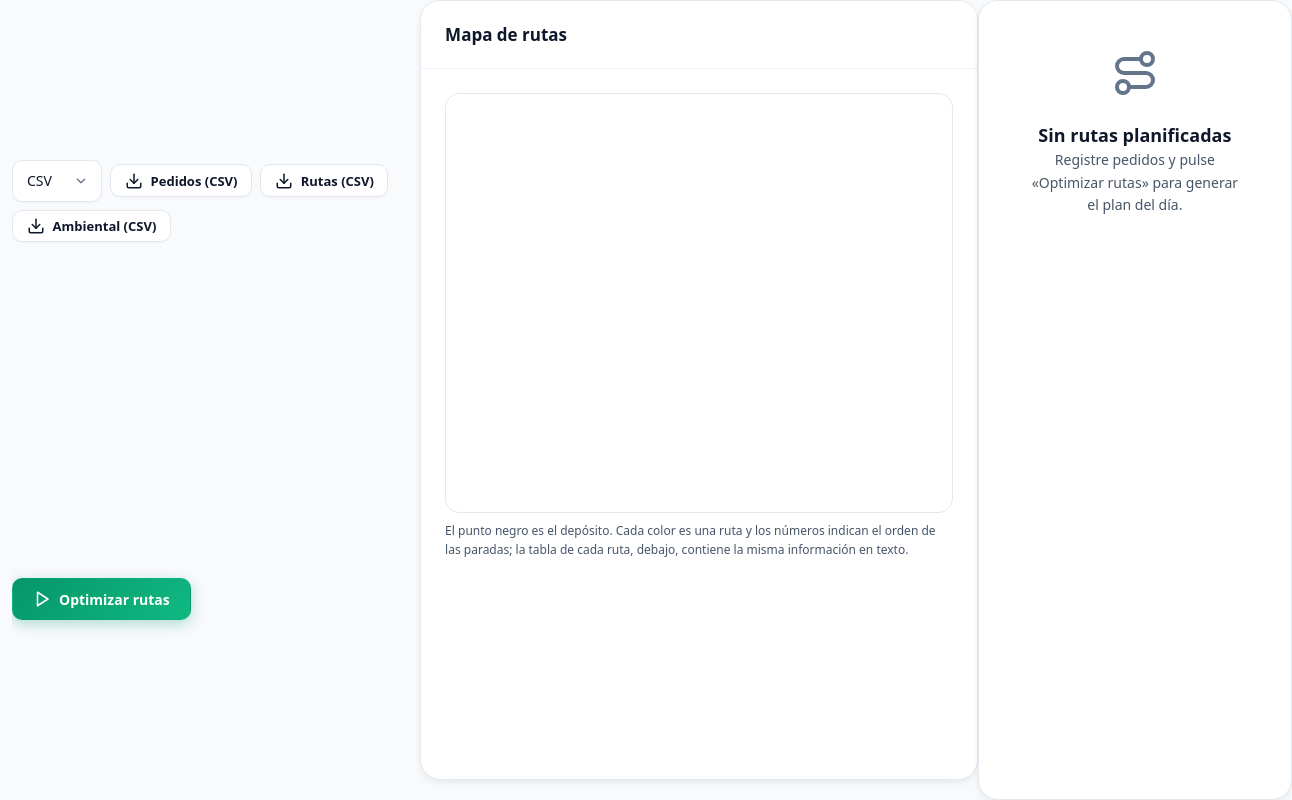
Test: RutasPage › optimizar muestra el CO₂ evitado, la compensación, el tiempo y los pedidos sin asignar
What coordinates should you click on to do the following:
click the button "Optimizar rutas"
I would click on:
 (101, 599)
Its box is [12,578,191,620].
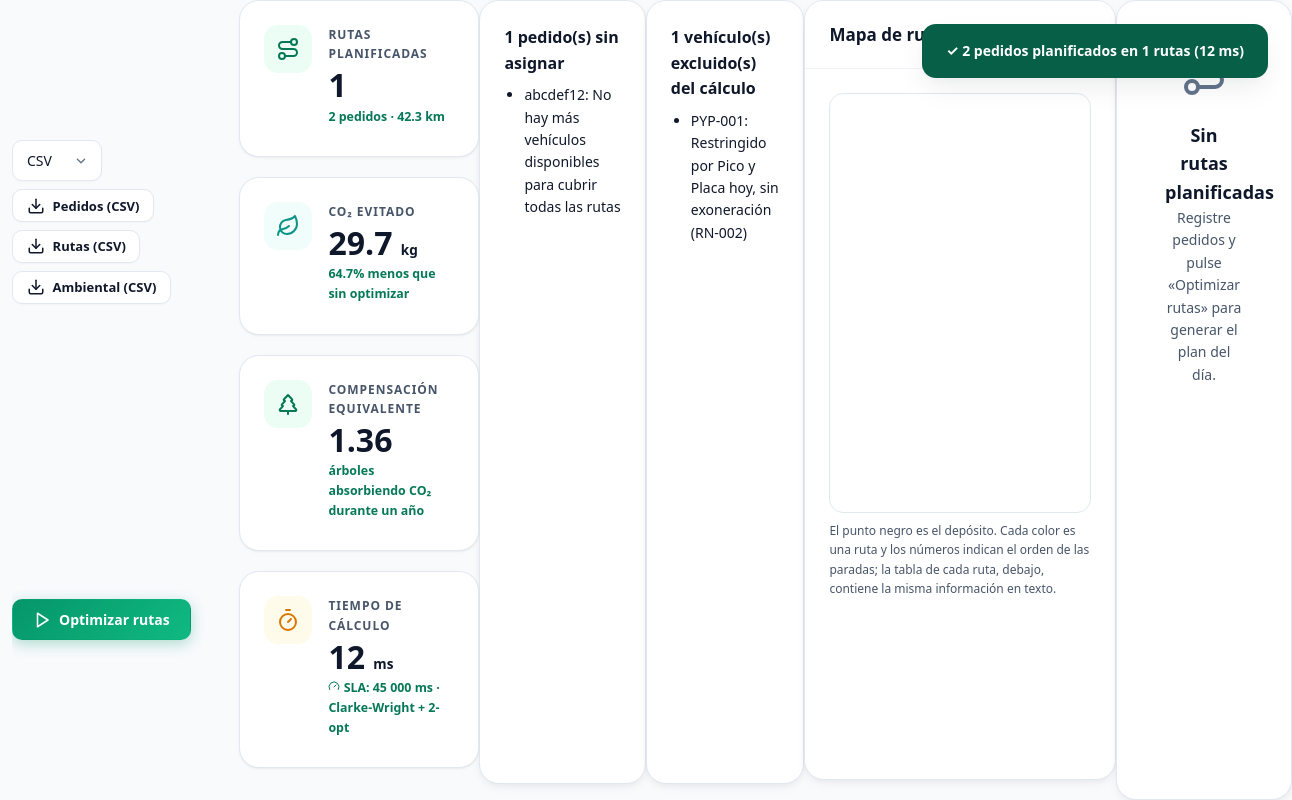
Expected: the text "29.7" is shown, [328,221,392,264]
Expected: the text "64.7% menos que sin optimizar" is shown, [328,264,454,304]
Expected: the text "1.36" is shown, [328,418,392,461]
